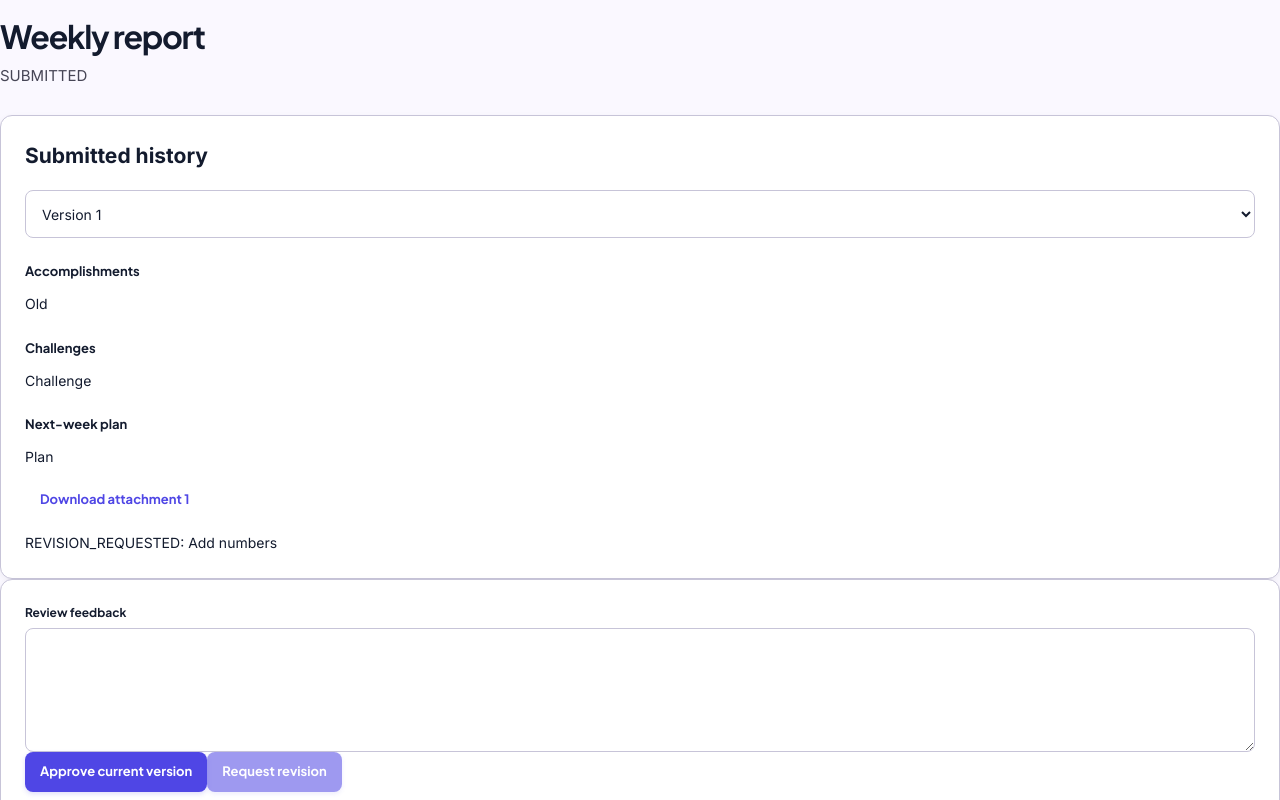
Test case: submits actual reviewer feedback and shows stale-review conflicts
Type "More detail" into the text box labelled "Review feedback". click: (640, 690)
box: [25, 628, 1255, 752]
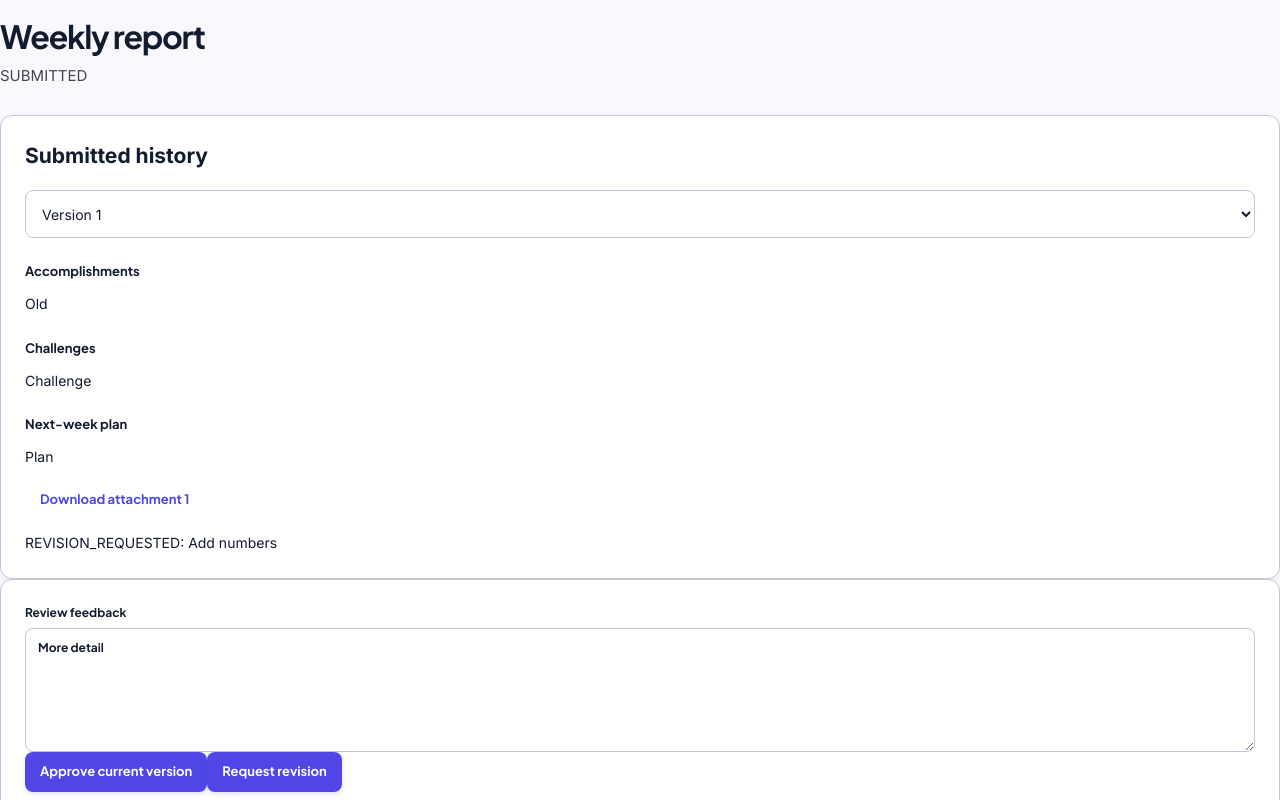
Click the button "Request revision". click: click(274, 772)
box: [207, 752, 342, 792]
(page scrolled)
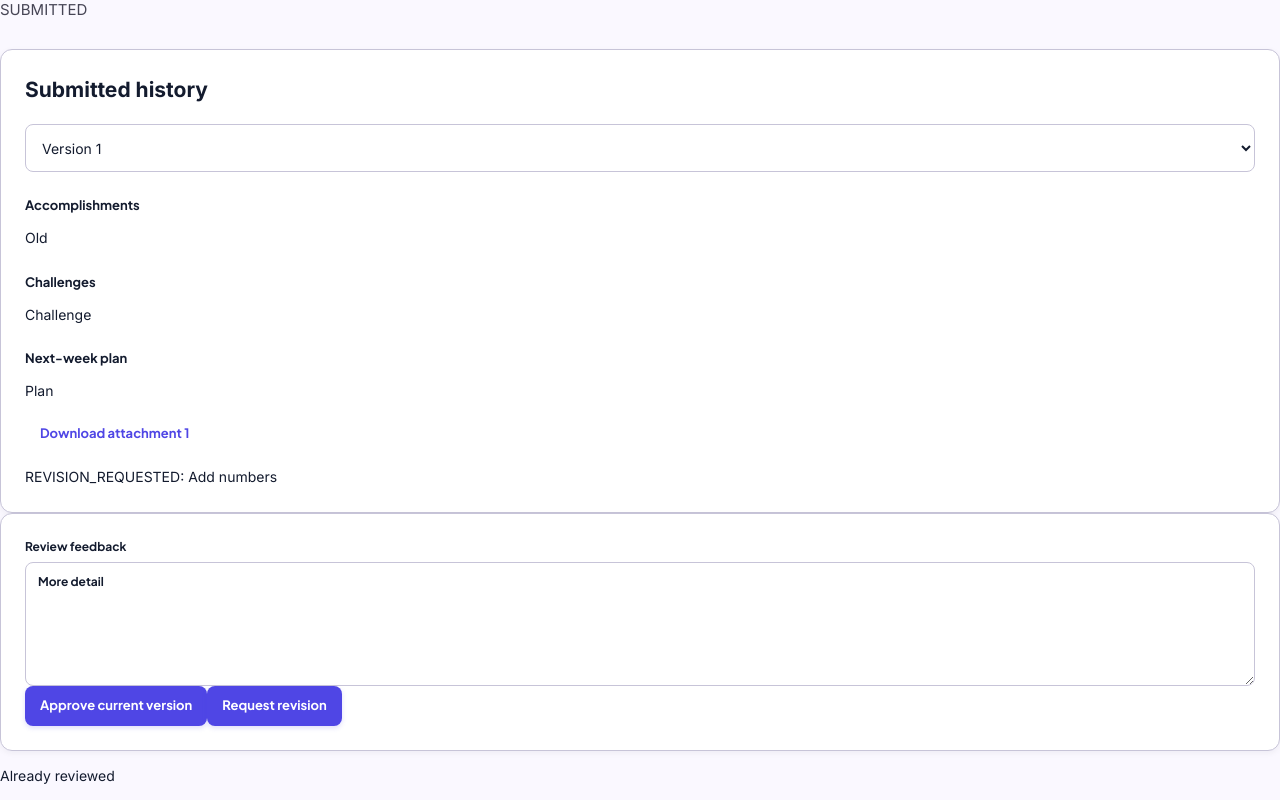
Check: the message reads "Already reviewed", box [0, 766, 115, 784]
